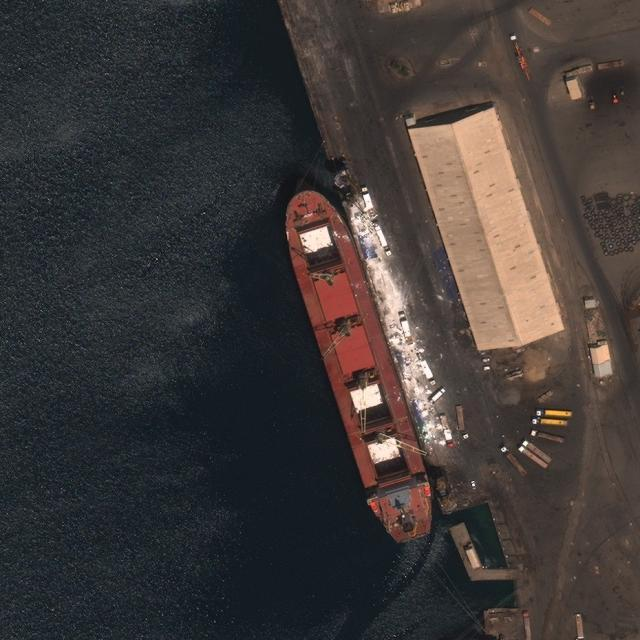Cargo: (269, 180, 444, 551)
